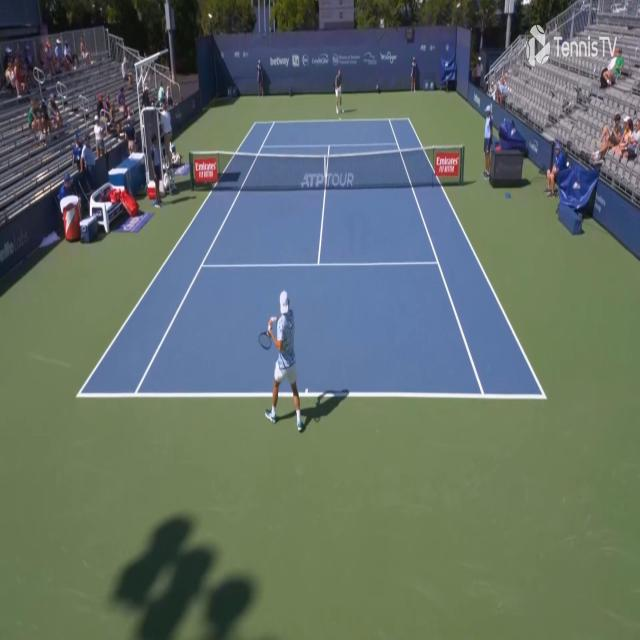tennis-player: (259, 288, 307, 434), (333, 66, 344, 115)
